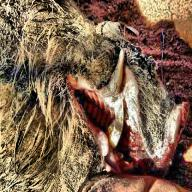boar: (0, 0, 181, 186)
